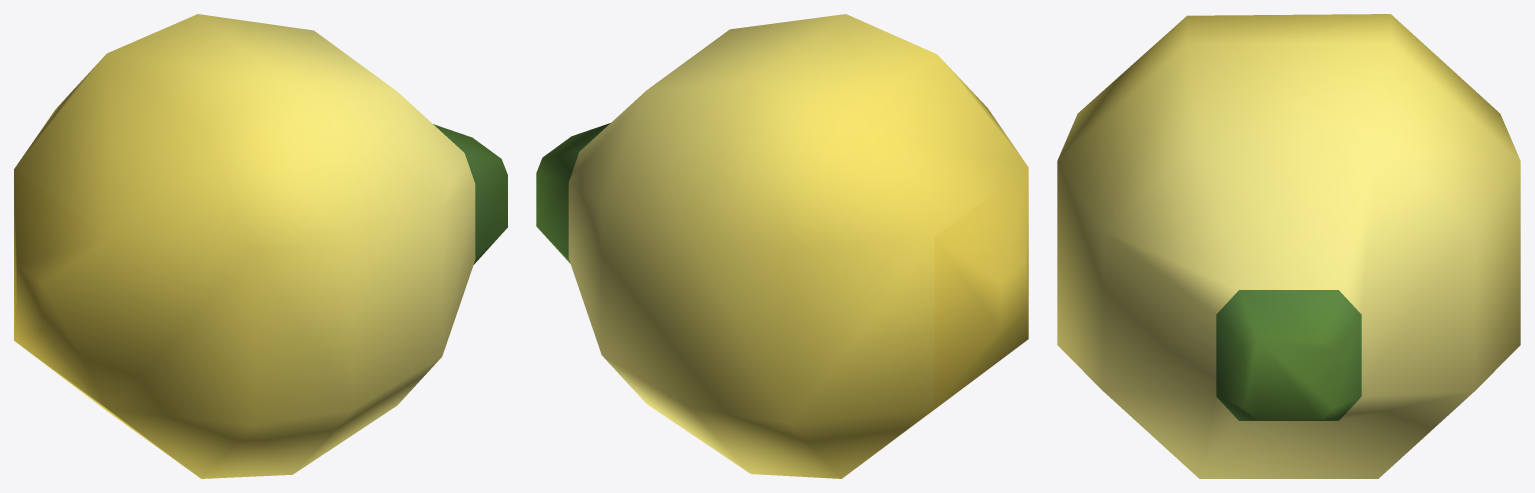
File: lemon.fbx
3 views of the same model, side by side, from view 1: azimuth 30°, elevation 25°; view 2: azimuth 150°, elevation 25°; view 3: azimuth 270°, elevation 25° (orthographic). The views are drawn at different scales.
Parts seen in each view (by area): view 1: lemon; view 2: lemon; view 3: lemon.
Part boxes in pixels (box(x1,y1,x2,y2)): lemon: box(14, 14, 507, 478); lemon: box(536, 14, 1028, 478); lemon: box(1057, 14, 1520, 478).
Size of the model in its own units: 20.97 by 17.18 by 17.18.
